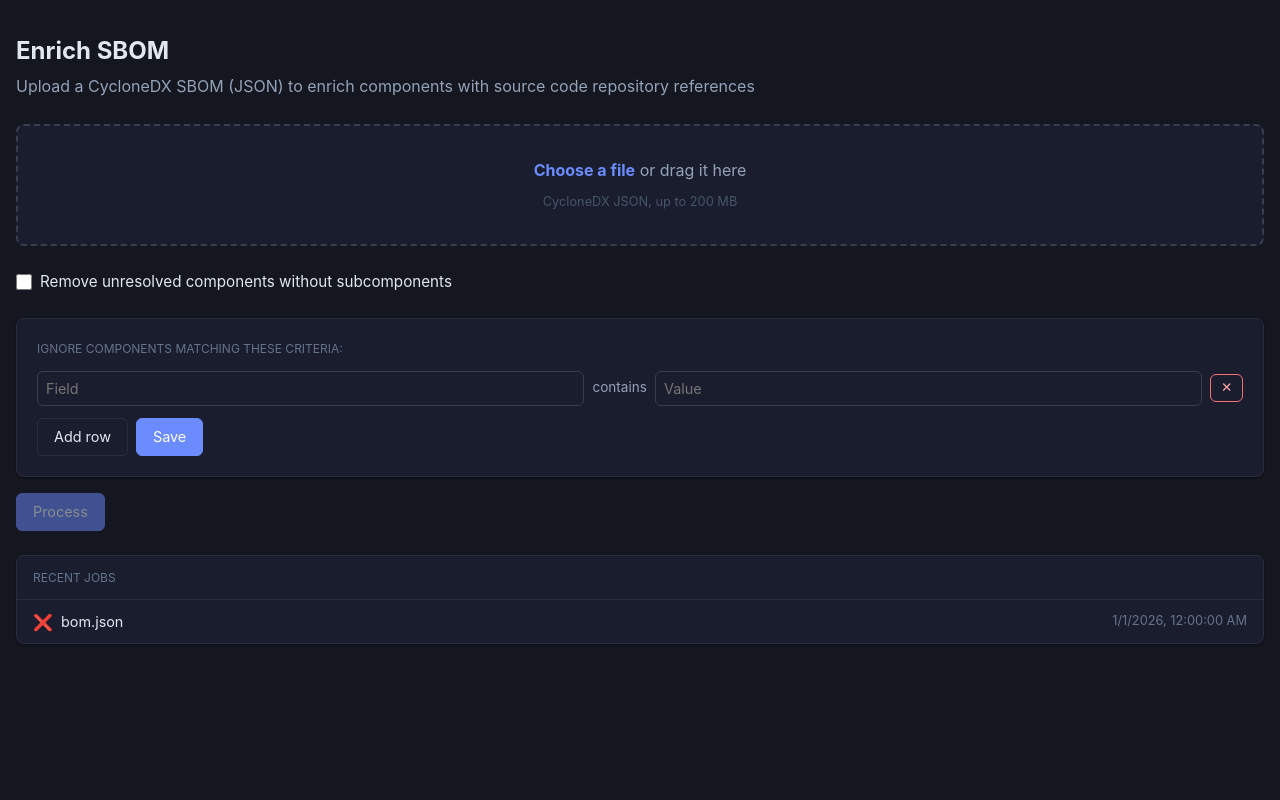
it: SbomUpdater.vue › shows failed job error message
Click the element with class "job-row".
click(92, 622)  # box [33, 612, 1247, 632]
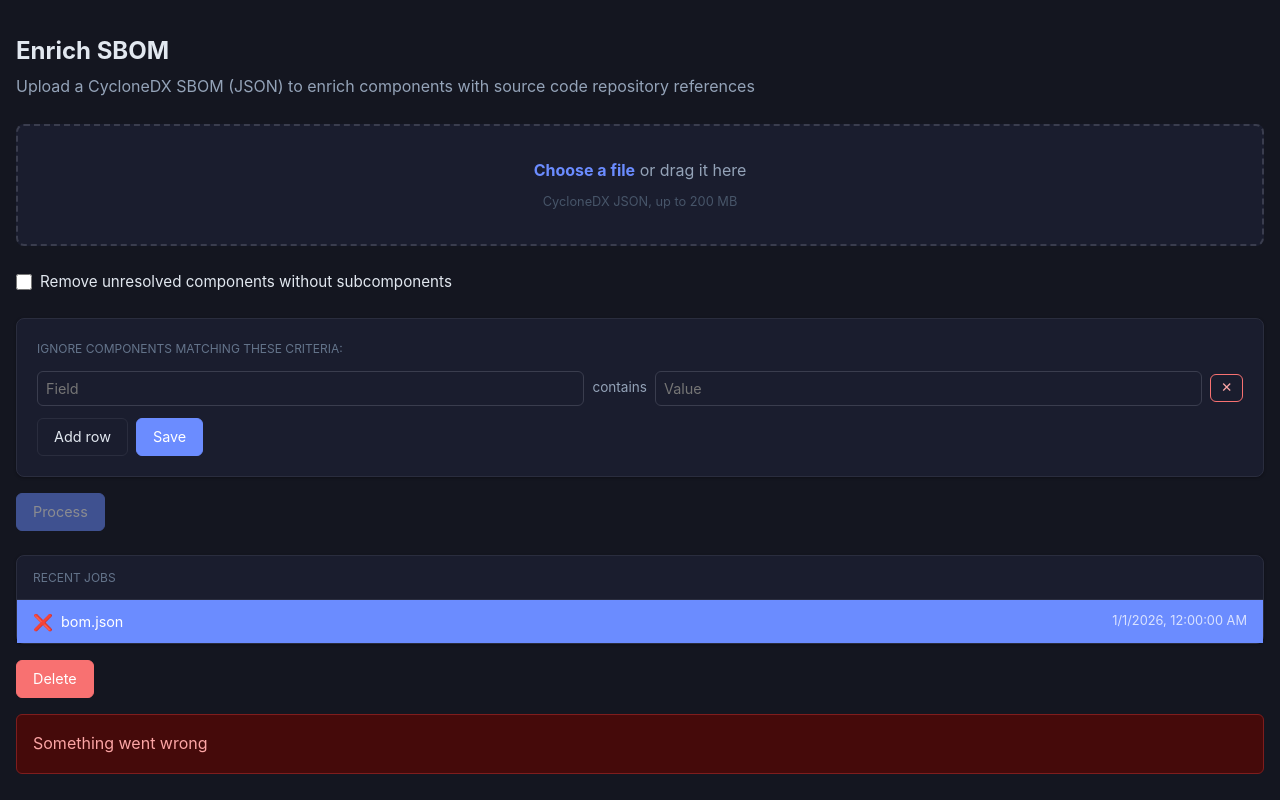
Expected: the text "Something went wrong" is shown, [16, 714, 1264, 774]
Expected: the text with class "error-msg" reads "Something went wrong", [33, 733, 208, 753]
